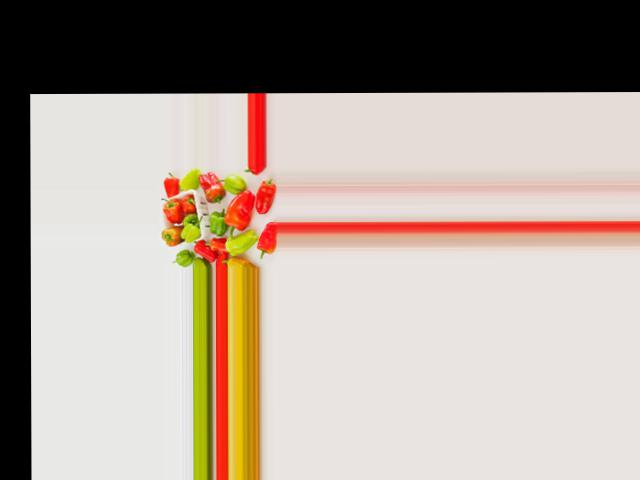bell_pepper: (254, 226, 277, 260)
